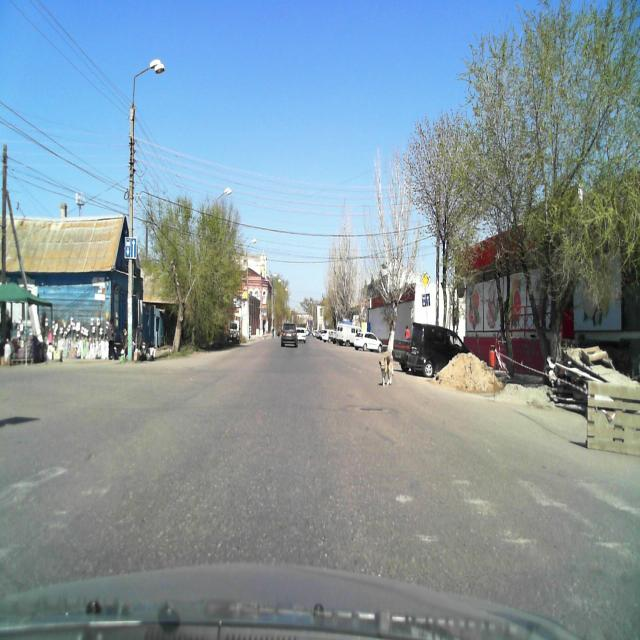road sign: (125, 236, 137, 259), (421, 270, 431, 290), (422, 293, 430, 307)
